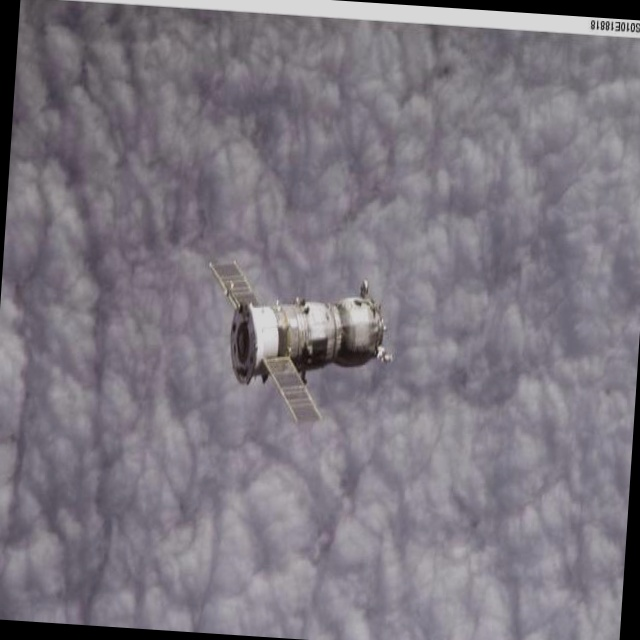satellite: (183, 227, 389, 443)
